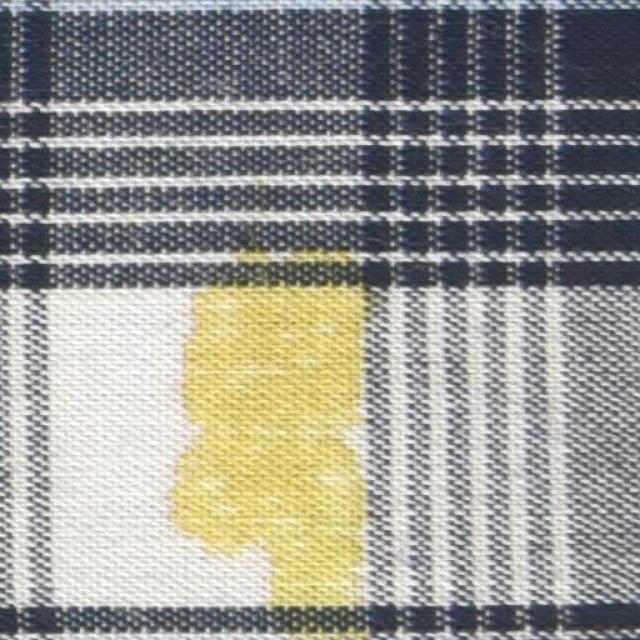Stain: (167, 251, 389, 640)
